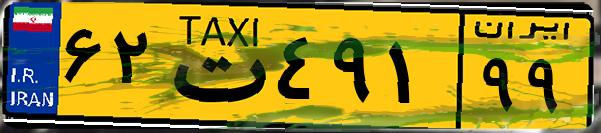1: (385, 28, 445, 110)
2: (110, 28, 158, 98)
4: (270, 28, 330, 110)
6: (57, 26, 110, 100)
9: (330, 28, 385, 110), (475, 38, 525, 113), (525, 38, 570, 115)
ت: (158, 12, 270, 120)
